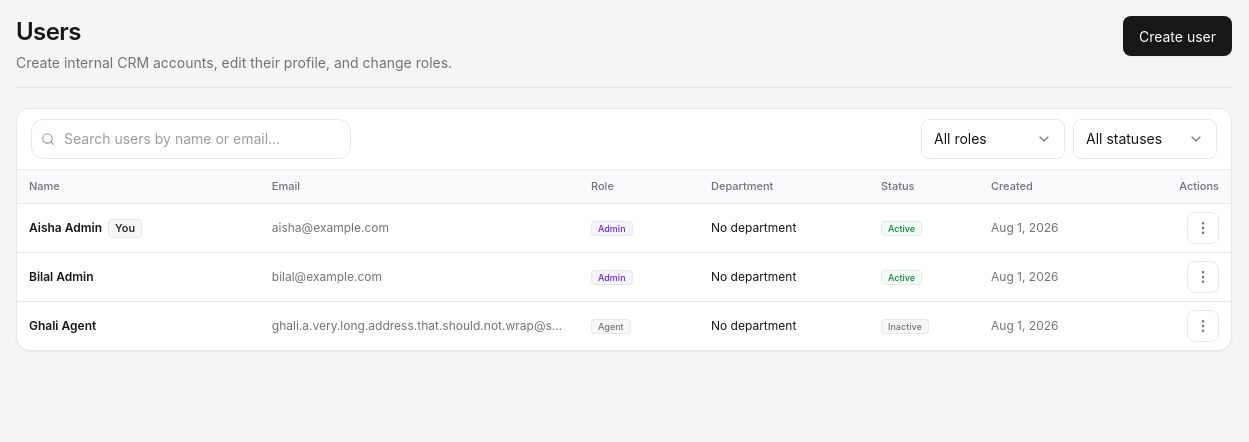
Test case: users management — table › groups Edit and the status action in one Actions ellipsis dropdown menu
Click the button named "Actions" in the row of "Ghali Agent".
click(1203, 326)  # box x1=1187 y1=310 x2=1219 y2=342
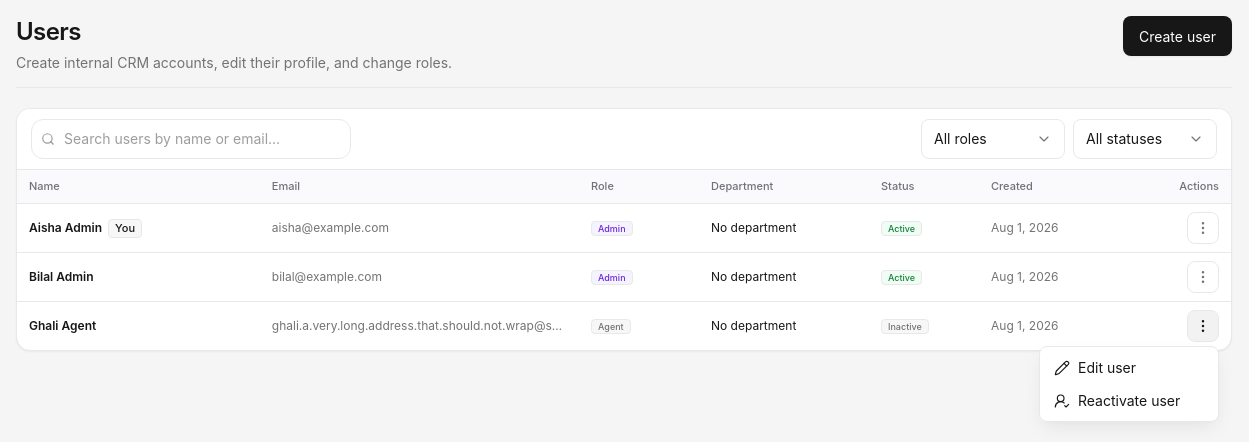
Result: the menu item "Edit user" is shown at x1=1044 y1=351 x2=1214 y2=384
Result: the menu item "Reactivate user" is shown at x1=1044 y1=384 x2=1214 y2=417
